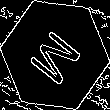M_SE: (23, 21, 87, 89)
